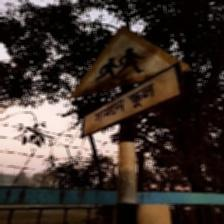School-in-front: (71, 27, 188, 136)
